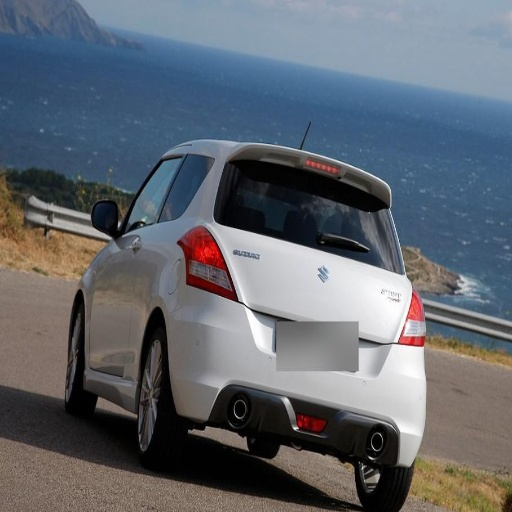back_bumper: (170, 287, 429, 462)
back_glass: (215, 162, 390, 268), (144, 155, 216, 210)
back_left_door: (124, 241, 142, 360)
back_left_light: (179, 232, 238, 300)
tailgate: (213, 224, 315, 323), (344, 280, 410, 375)
trunk: (243, 239, 406, 376)
